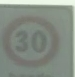limite 30: (1, 1, 74, 76)
